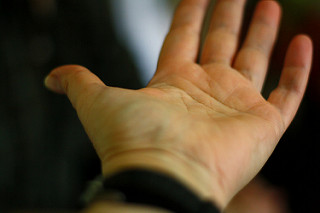palm: (140, 69, 258, 166)
